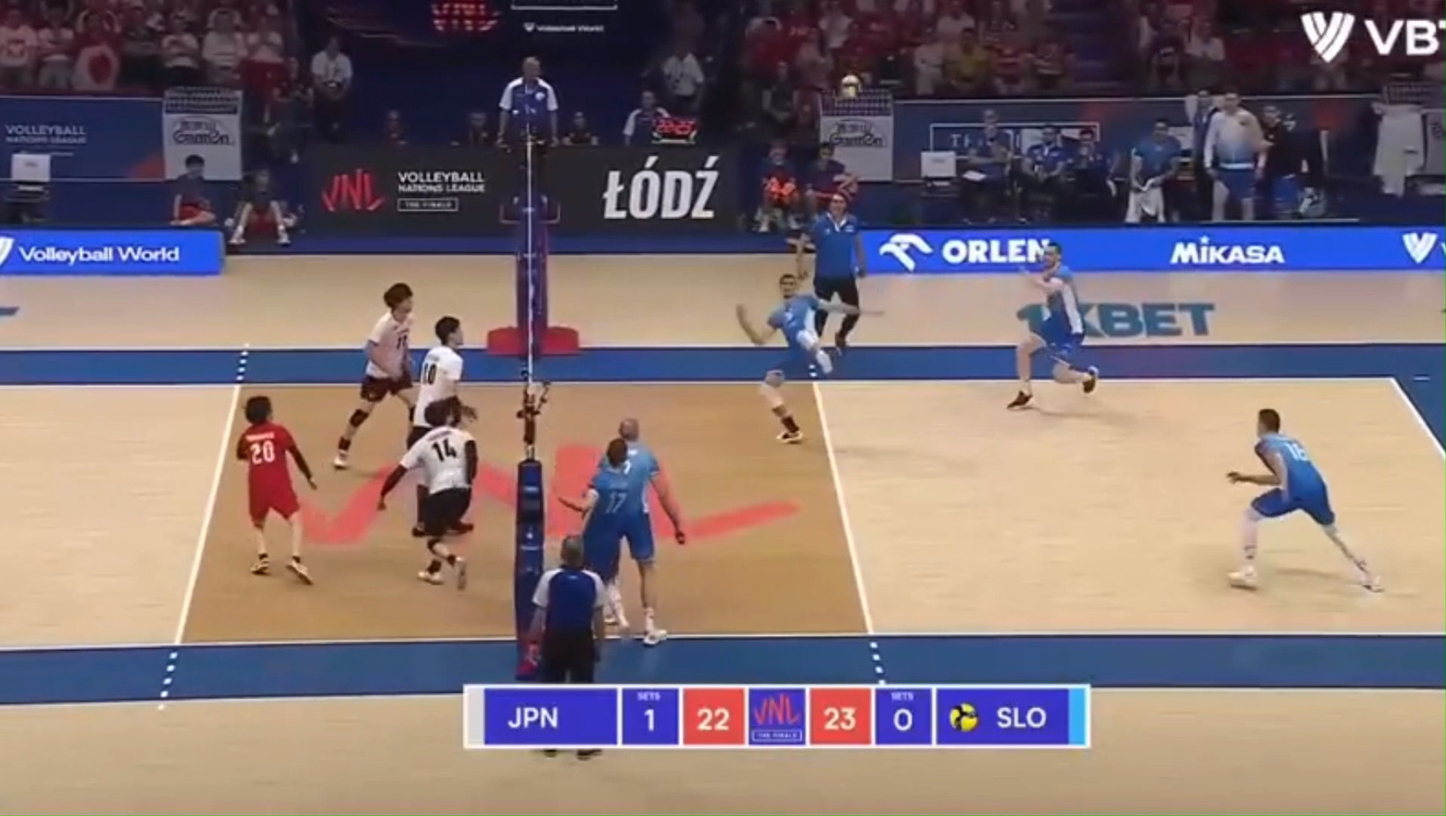ball: (838, 74, 860, 98)
player: (1227, 408, 1380, 591), (735, 272, 863, 444), (615, 418, 686, 645), (561, 437, 643, 627), (1008, 243, 1098, 409)
player 1: (378, 397, 478, 589), (332, 283, 415, 469), (236, 395, 315, 584), (406, 316, 462, 447)
referee: (530, 537, 606, 682), (496, 57, 558, 224), (808, 192, 866, 352), (811, 308, 829, 345)
